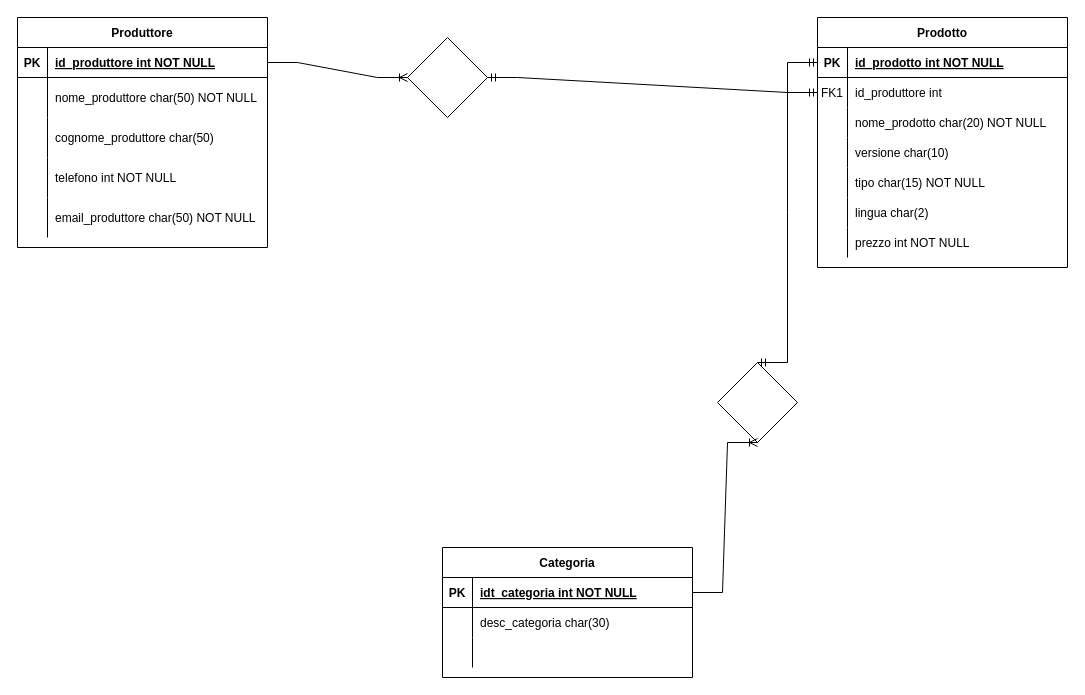
This 1085x695 diagram has some shape labels left out. The centre of each missing label's shape, as x and y in pixels:
Classificato: the point at 757,402
Fornisce: the point at 447,77
